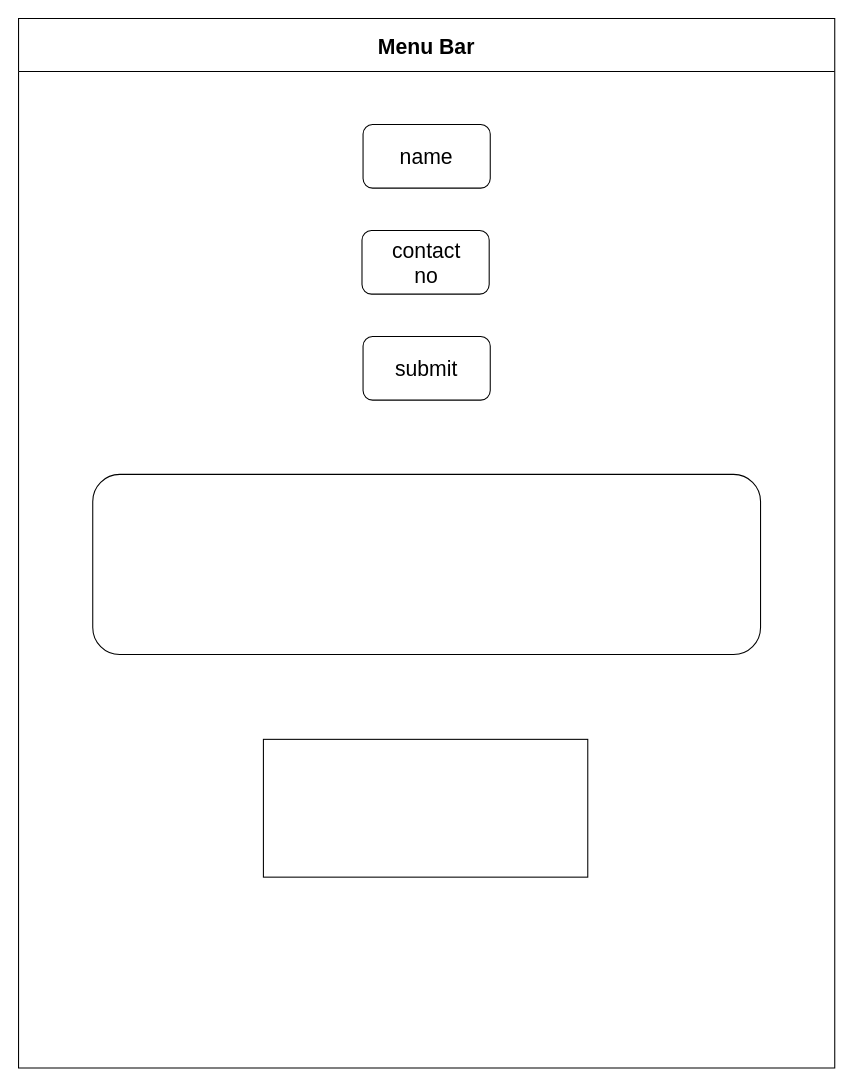
The diagram is 853 pixels wide and 1087 high, and some of its shapes have lost their labels. Each missing label, with the box of its shape:
map: (262, 738, 588, 877)
photo: (92, 473, 761, 655)
